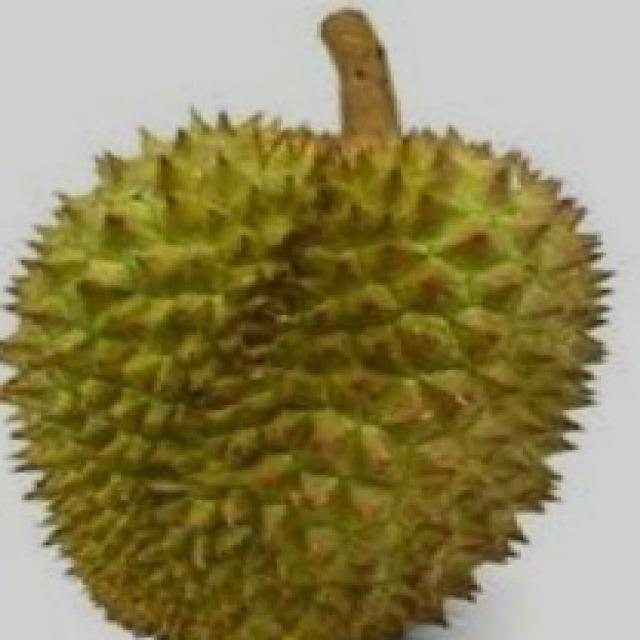fruit: (258, 222, 640, 638), (0, 272, 366, 640)
